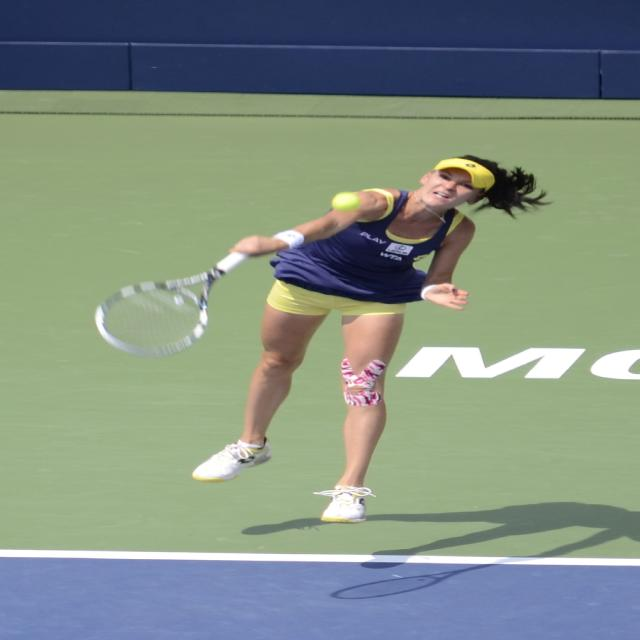Tennis ball: (332, 191, 356, 211)
